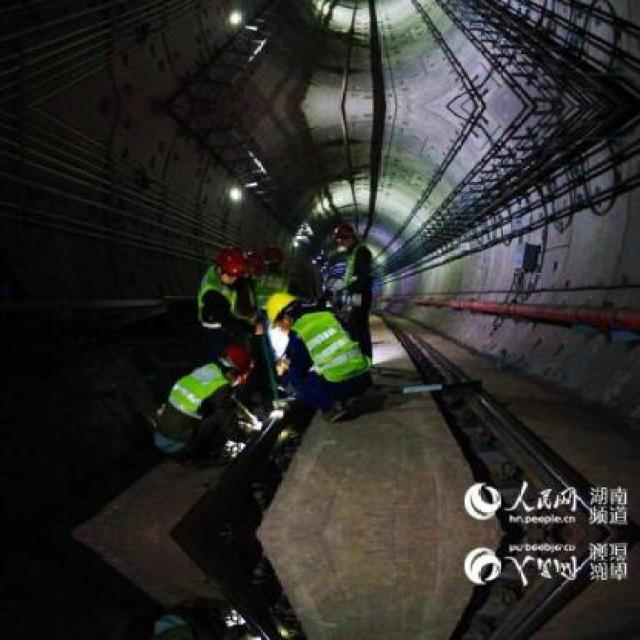helmet: (260, 287, 303, 334), (213, 341, 258, 385), (210, 245, 242, 284), (330, 221, 356, 246)
